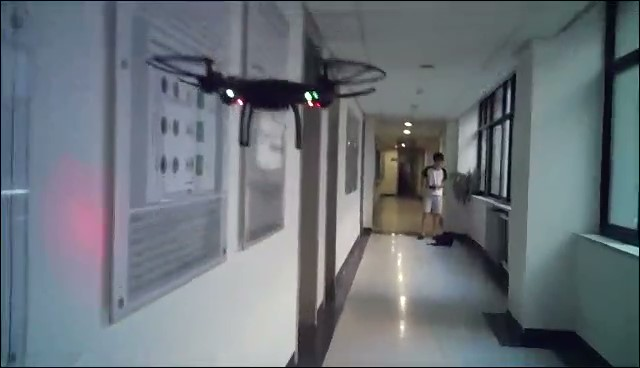drone: (144, 53, 387, 150)
person: (415, 151, 450, 240)
